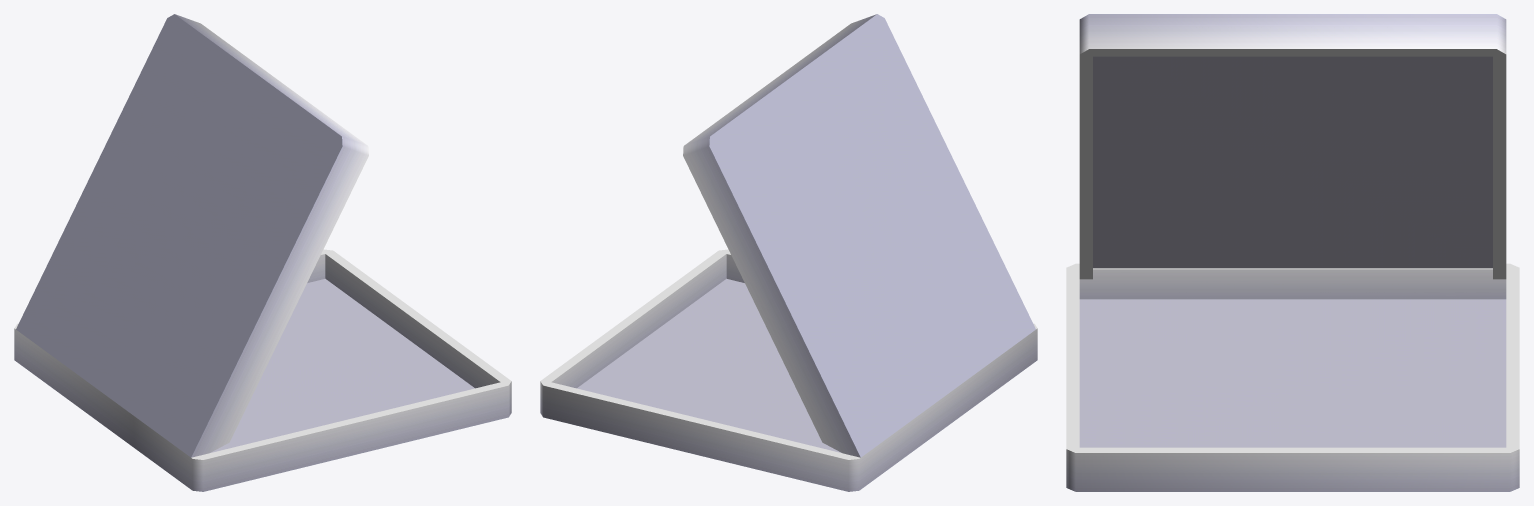
The model's file is pizza-box.glb.
3 views of the same model, side by side, from view 1: azimuth 30°, elevation 25°; view 2: azimuth 150°, elevation 25°; view 3: azimuth 270°, elevation 25° (orthographic). The views are drawn at different scales.
Visible parts, largest first — view 1: lid, pizza-box; view 2: lid, pizza-box; view 3: lid, pizza-box.
Part boxes in pixels (<box>): lid: <box>16,14,368,457</box>; pizza-box: <box>14,249,511,491</box>; lid: <box>683,14,1035,457</box>; pizza-box: <box>540,249,1037,491</box>; lid: <box>1079,14,1506,279</box>; pizza-box: <box>1066,263,1519,491</box>.
Size of the model in its own units: 0.9418 by 0.8816 by 0.9518.
1 material, 1 textured.
